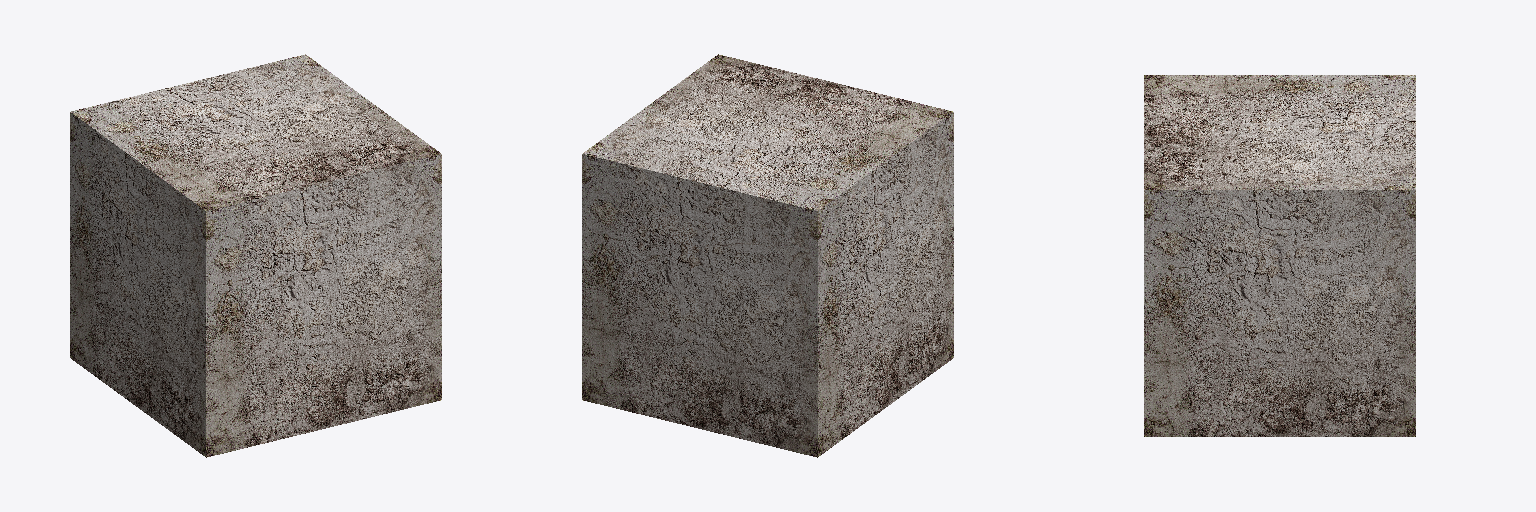
The picture shows the model from 3 angles: view 1: azimuth 30°, elevation 25°; view 2: azimuth 150°, elevation 25°; view 3: azimuth 270°, elevation 25°; orthographic projection.
Parts seen in each view (by area): view 1: Box001; view 2: Box001; view 3: Box001.
Part boxes in pixels (left/top/right/bottom): Box001: left=70, top=54, right=441, bottom=457; Box001: left=582, top=54, right=953, bottom=457; Box001: left=1144, top=75, right=1415, bottom=436.
Size of the model in its own units: 100 by 100 by 100.
1 materials, 1 textured.